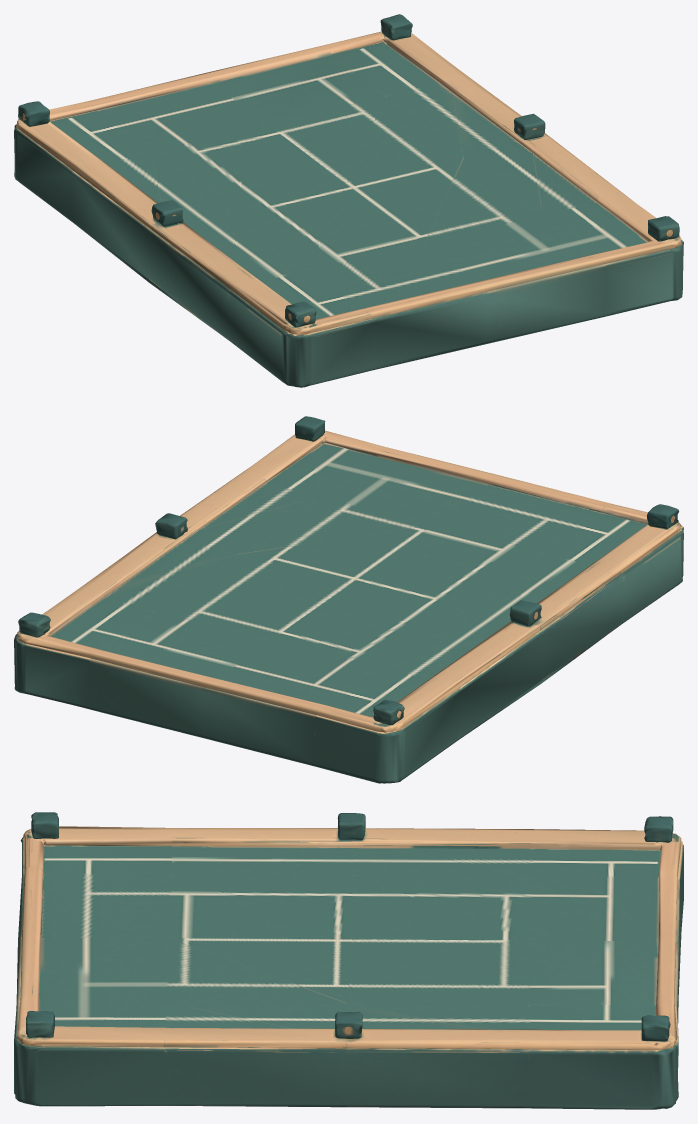
The model's file is park-tennis-court-base.glb.
3 views of the same model, one above another, from view 1: azimuth 30°, elevation 25°; view 2: azimuth 150°, elevation 25°; view 3: azimuth 270°, elevation 25° (orthographic). The views are drawn at different scales.
Visible parts, largest first — view 1: Mesh_0; view 2: Mesh_0; view 3: Mesh_0.
Part boxes in pixels (x1=…): Mesh_0: x1=14, y1=14, x2=683, y2=387; Mesh_0: x1=14, y1=416, x2=683, y2=783; Mesh_0: x1=14, y1=812, x2=683, y2=1109.
Bounding box in the file's own units: 5.66 × 1 × 7.24.
1 material, 1 textured.
